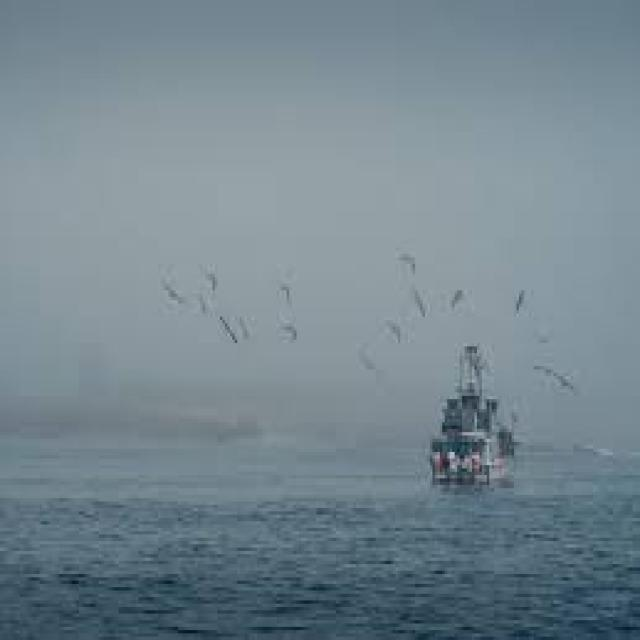fishing boat: (409, 334, 527, 498)
